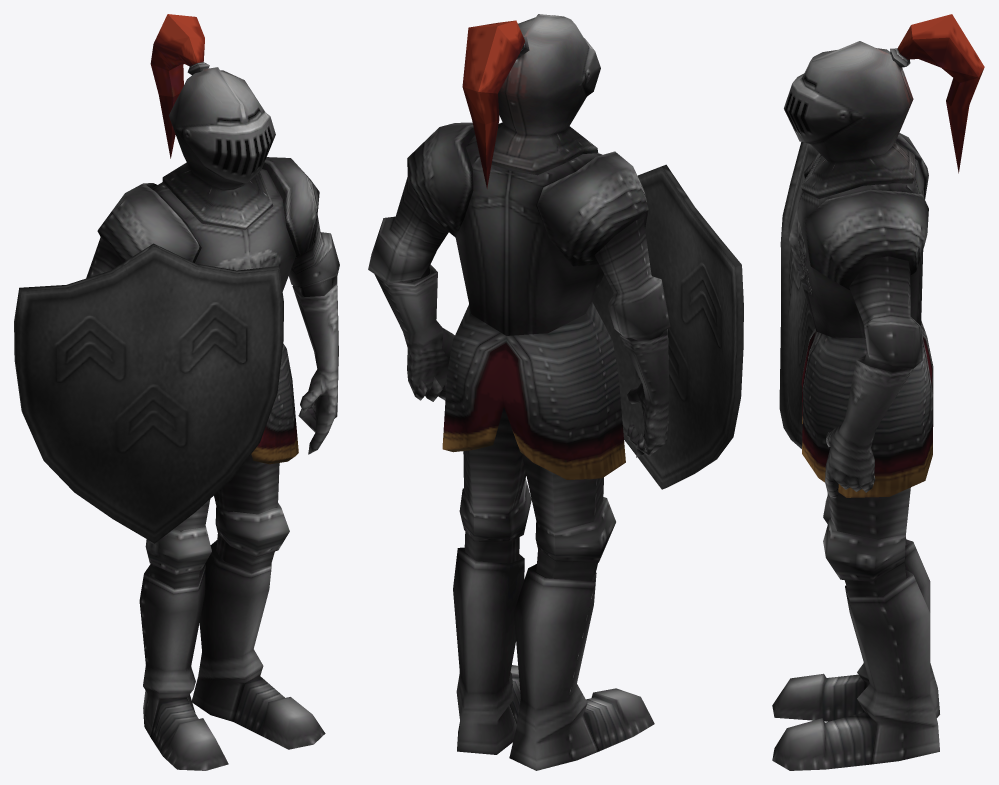
File: Armour.obj
3 renders of one model, left to right at view 1: azimuth 30°, elevation 25°; view 2: azimuth 150°, elevation 25°; view 3: azimuth 270°, elevation 25°, orthographic. The views are drawn at different scales.
Parts seen in each view (by area): view 1: Armour, Shield; view 2: Armour, Shield; view 3: Armour, Shield.
Boxes of the visible parts, x1,y1,x2,y2 form: Armour: [86, 14, 339, 770]; Shield: [14, 243, 283, 543]; Armour: [368, 14, 670, 770]; Shield: [592, 164, 743, 489]; Armour: [772, 14, 984, 770]; Shield: [779, 142, 818, 448].
Bounding box in the file's own units: 28.58 × 55.87 × 15.03.
2 materials, 2 textured.
